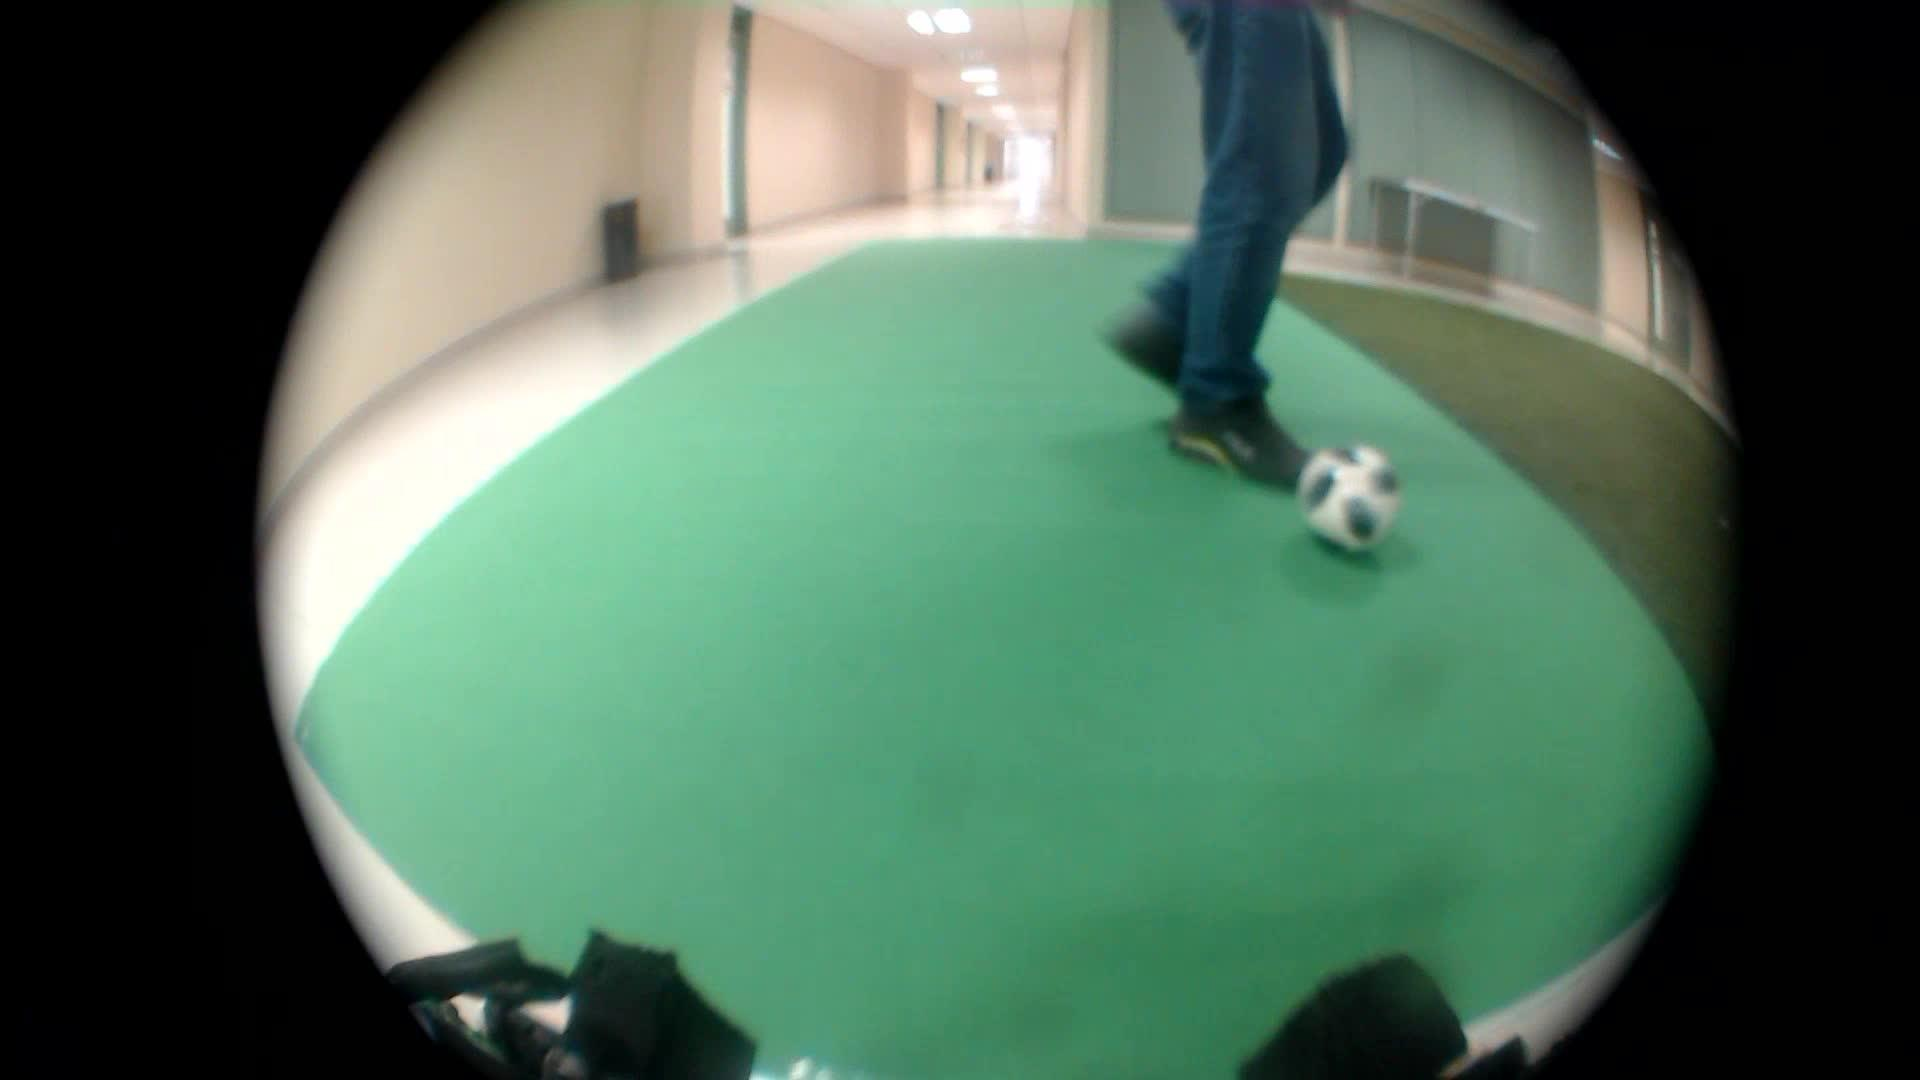ball: (1302, 440, 1404, 566)
